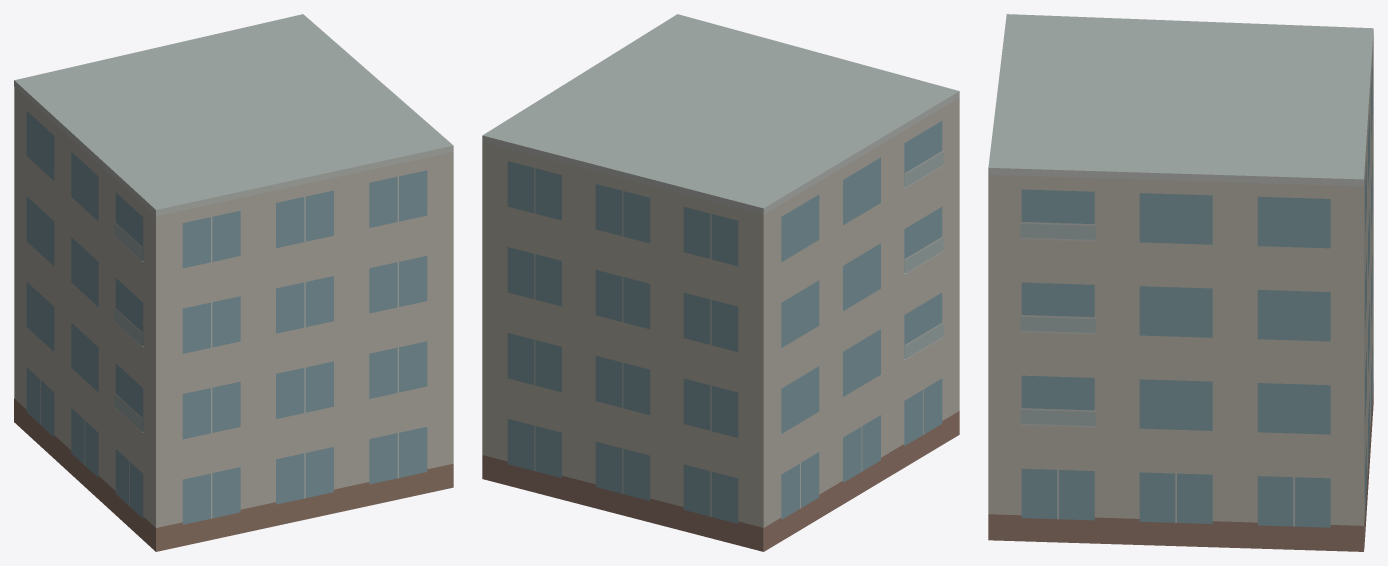
The model's file is survey-upis-32963236.glb.
3 views of the same model, side by side, from view 1: azimuth 30°, elevation 25°; view 2: azimuth 150°, elevation 25°; view 3: azimuth 270°, elevation 25° (orthographic). The views are drawn at different scales.
Parts seen in each view (by area): view 1: survey-upis-32963236.tmp; view 2: survey-upis-32963236.tmp; view 3: survey-upis-32963236.tmp.
Boxes of the visible parts, left/top/right/bottom form: survey-upis-32963236.tmp: left=14, top=14, right=453, bottom=551; survey-upis-32963236.tmp: left=482, top=14, right=959, bottom=551; survey-upis-32963236.tmp: left=988, top=14, right=1373, bottom=551.
Size of the model in its own units: 12.58 by 13.2 by 12.39.
